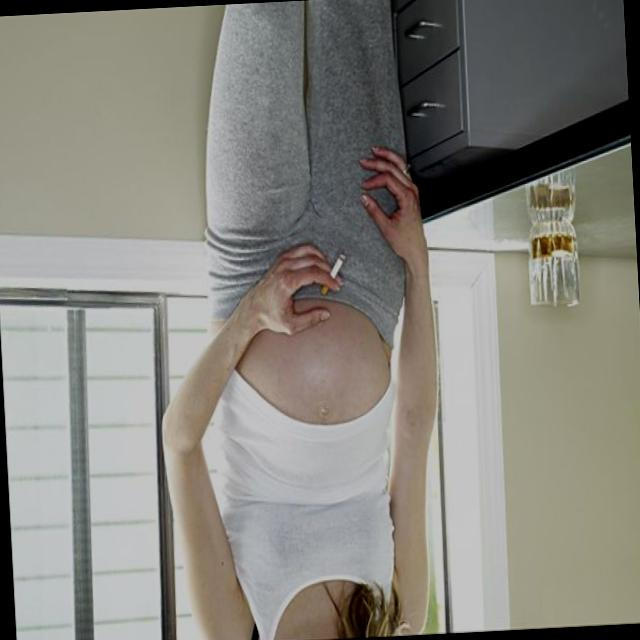cigarette: (322, 250, 348, 298)
